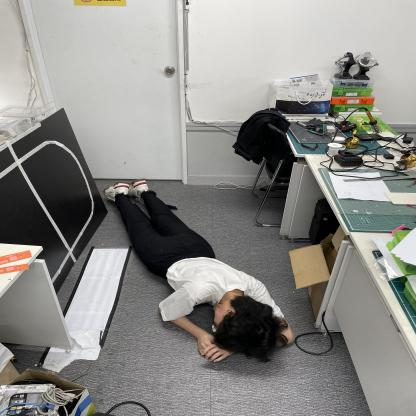fall: (103, 176, 292, 363)
